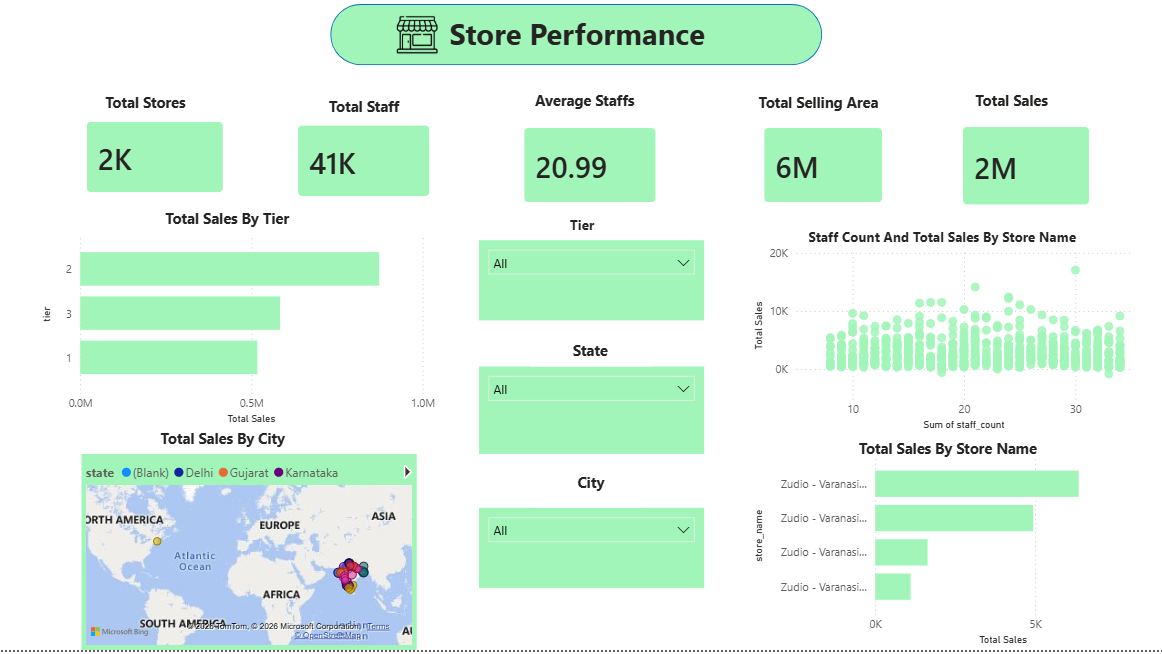

This screenshot's page, from the dashboard's own definition file:
{"tool":"powerbi","page":{"name":"Store Performance","canvas":[1280,720],"ordinal":2},"visuals":[{"type":"cardVisual","fields":{"Data":["All Measures.Total Stores"]},"box":[79.6,123.5,183.9,111.1],"z":0},{"type":"cardVisual","fields":{"Data":["All Measures.Total Staff"]},"box":[311.5,127.6,178.4,111.1],"z":1000},{"type":"cardVisual","fields":{"Data":["All Measures.Average Staffs"]},"box":[559.9,130.4,178.4,115.3],"z":2000},{"type":"cardVisual","fields":{"Data":["All Measures.Total Selling Area"]},"box":[823.3,130.4,163.3,115.3],"z":3000},{"type":"cardVisual","fields":{"Data":["All Measures.Total Sales"]},"box":[1041.5,129,172.9,119.4],"z":4000},{"type":"barChart","fields":{"Category":["stores.tier"],"Y":["All Measures.Total Sales"]},"box":[42.5,251.1,441.7,226.7],"z":5000},{"type":"barChart","fields":{"Category":["stores.store_name"],"Y":["All Measures.Total Sales"]},"box":[823.3,495,431.7,225],"z":6000},{"type":"scatterChart","fields":{"Category":["stores.store_name"],"X":["Sum(stores.staff_count)"],"Y":["All Measures.Total Sales"]},"box":[823.3,270,431.7,213.3],"z":7000},{"type":"map","fields":{"Category":["stores.city"],"Size":["All Measures.Total Sales"],"Series":["stores.state"]},"box":[90,505,368.3,215],"z":8000},{"type":"slicer","fields":{"Values":["stores.city"]},"box":[526.9,564,247,87.8],"z":9000},{"type":"slicer","fields":{"Values":["stores.state"]},"box":[526.9,408.9,247,96.1],"z":10000},{"type":"slicer","fields":{"Values":["stores.tier"]},"box":[526.9,270.3,247,87.8],"z":11000},{"type":"textbox","box":[89.2,102.9,142.7,41.2],"z":12000},{"type":"textbox","box":[311.5,107,178.4,32.9],"z":13000},{"type":"textbox","box":[561.2,100.2,163.3,43.9],"z":14000},{"type":"textbox","box":[798.6,102.9,201.7,34.3],"z":15000},{"type":"textbox","box":[1041.5,100.2,140,34.3],"z":16000},{"type":"textbox","box":[596.9,238.8,86.4,34.3],"z":17000},{"type":"textbox","box":[583.2,374.6,131.7,34.3],"z":18000},{"type":"textbox","box":[588.7,520.1,122.1,43.9],"z":19000},{"type":"textbox","box":[928.3,483.3,225,43.9],"z":20000},{"type":"textbox","box":[148.3,471.7,194.9,39.8],"z":21000},{"type":"textbox","box":[158.3,230,185.2,37],"z":22000},{"type":"textbox","box":[883.3,251.7,326.7,45],"z":23000},{"type":"shape","box":[364.3,11.4,540,67.1],"z":24000},{"type":"textbox","box":[473.4,16.5,322.9,57.1],"z":25000},{"type":"image","box":[400.7,22,116.6,45.3],"z":26000}]}

Visuals, with their boxes in screenshot pixels (x1, y1, x2, y2), scaled from the page's 1280x720 canvas onto the 1162x654 screenshot:
cardVisual - All Measures.Total Stores: [left=72, top=112, right=239, bottom=213]
cardVisual - All Measures.Total Staff: [left=283, top=116, right=445, bottom=217]
cardVisual - All Measures.Average Staffs: [left=508, top=118, right=670, bottom=223]
cardVisual - All Measures.Total Selling Area: [left=747, top=118, right=896, bottom=223]
cardVisual - All Measures.Total Sales: [left=945, top=117, right=1102, bottom=226]
barChart - stores.tier x All Measures.Total Sales: [left=39, top=228, right=440, bottom=434]
barChart - stores.store_name x All Measures.Total Sales: [left=747, top=450, right=1139, bottom=653]
scatterChart - stores.store_name x Sum(stores.staff_count): [left=747, top=245, right=1139, bottom=439]
map - stores.city x All Measures.Total Sales: [left=82, top=459, right=416, bottom=653]
slicer - stores.city: [left=478, top=512, right=703, bottom=592]
slicer - stores.state: [left=478, top=371, right=703, bottom=459]
slicer - stores.tier: [left=478, top=246, right=703, bottom=325]
textbox: [left=81, top=93, right=211, bottom=131]
textbox: [left=283, top=97, right=445, bottom=127]
textbox: [left=509, top=91, right=658, bottom=131]
textbox: [left=725, top=93, right=908, bottom=125]
textbox: [left=945, top=91, right=1073, bottom=122]
textbox: [left=542, top=217, right=620, bottom=248]
textbox: [left=529, top=340, right=649, bottom=371]
textbox: [left=534, top=472, right=645, bottom=512]
textbox: [left=843, top=439, right=1047, bottom=479]
textbox: [left=135, top=428, right=312, bottom=465]
textbox: [left=144, top=209, right=312, bottom=243]
textbox: [left=802, top=229, right=1098, bottom=270]
shape: [left=331, top=10, right=821, bottom=71]
textbox: [left=430, top=15, right=723, bottom=67]
image: [left=364, top=20, right=470, bottom=61]
